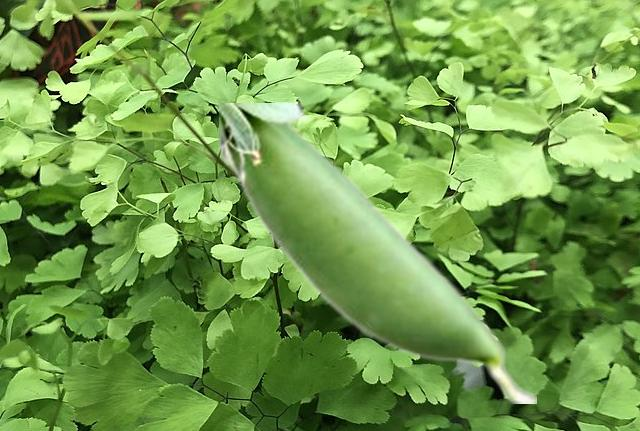pea: (219, 103, 535, 402)
